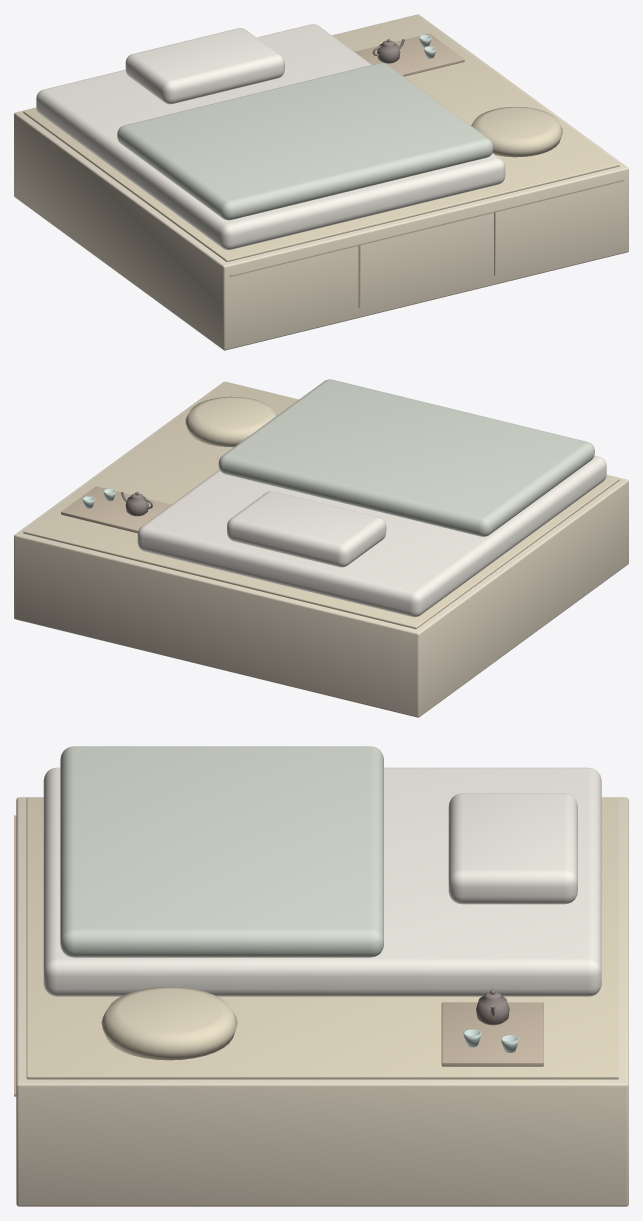
Rendered from sg_platform.glb.
The picture shows the model from 3 angles, top to bottom: view 1: azimuth 30°, elevation 25°; view 2: azimuth 150°, elevation 25°; view 3: azimuth 270°, elevation 25°; orthographic projection. The views are drawn at different scales.
Parts seen in each view (by area): view 1: platform, duvet, futon, mat, pillow, puff, tray, grooveh; view 2: platform, duvet, futon, mat, pillow, puff, tray; view 3: platform, duvet, futon, mat, pillow, puff, tray, pot_body, grooveh.
Boxes of the visible parts, x1,y1,x2,y2 form: platform: (14, 14, 628, 350); duvet: (117, 62, 493, 220); futon: (36, 24, 505, 250); mat: (23, 15, 619, 261); pillow: (125, 28, 284, 104); puff: (471, 106, 562, 157); tray: (354, 33, 464, 76); grooveh: (230, 179, 624, 276); platform: (14, 381, 628, 717); duvet: (218, 379, 594, 536); futon: (137, 455, 606, 617); mat: (23, 382, 619, 629); pillow: (227, 491, 386, 567); puff: (185, 396, 276, 447); tray: (61, 486, 170, 533); platform: (16, 797, 628, 1206); duvet: (60, 746, 383, 957); futon: (43, 767, 601, 996); mat: (26, 797, 618, 1079); pillow: (448, 793, 577, 904); puff: (101, 987, 237, 1060); tray: (441, 1002, 543, 1066); pot_body: (476, 992, 509, 1025); grooveh: (14, 815, 16, 1096).
Size of the model in its own units: 2 by 0.635 by 1.81.
